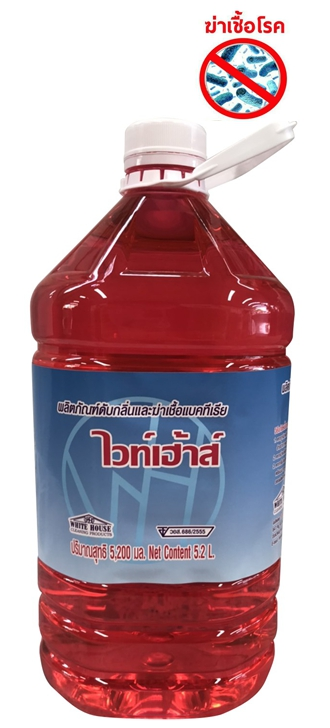Cleaning_solution: (22, 114, 302, 722)
